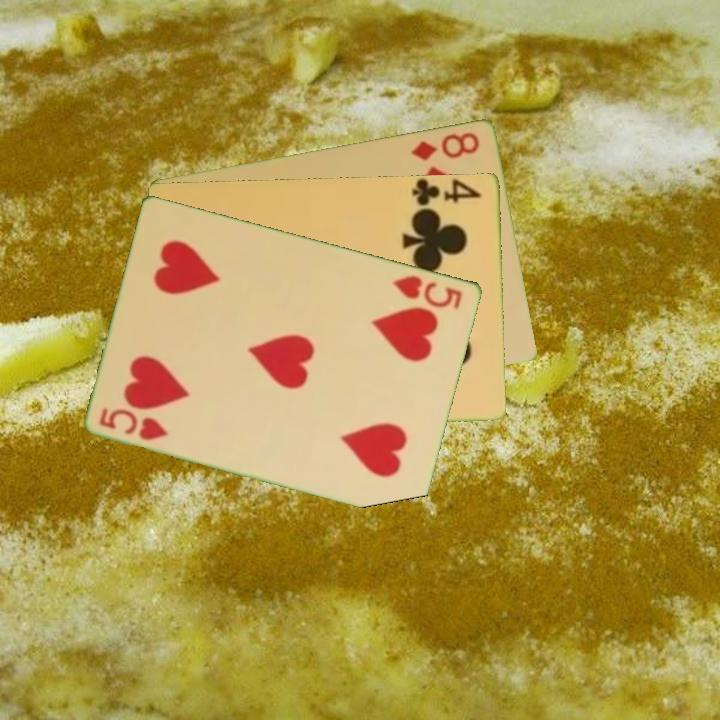4c: (409, 176, 484, 209)
5h: (389, 271, 466, 312), (96, 403, 172, 443)
8d: (408, 128, 483, 163)
